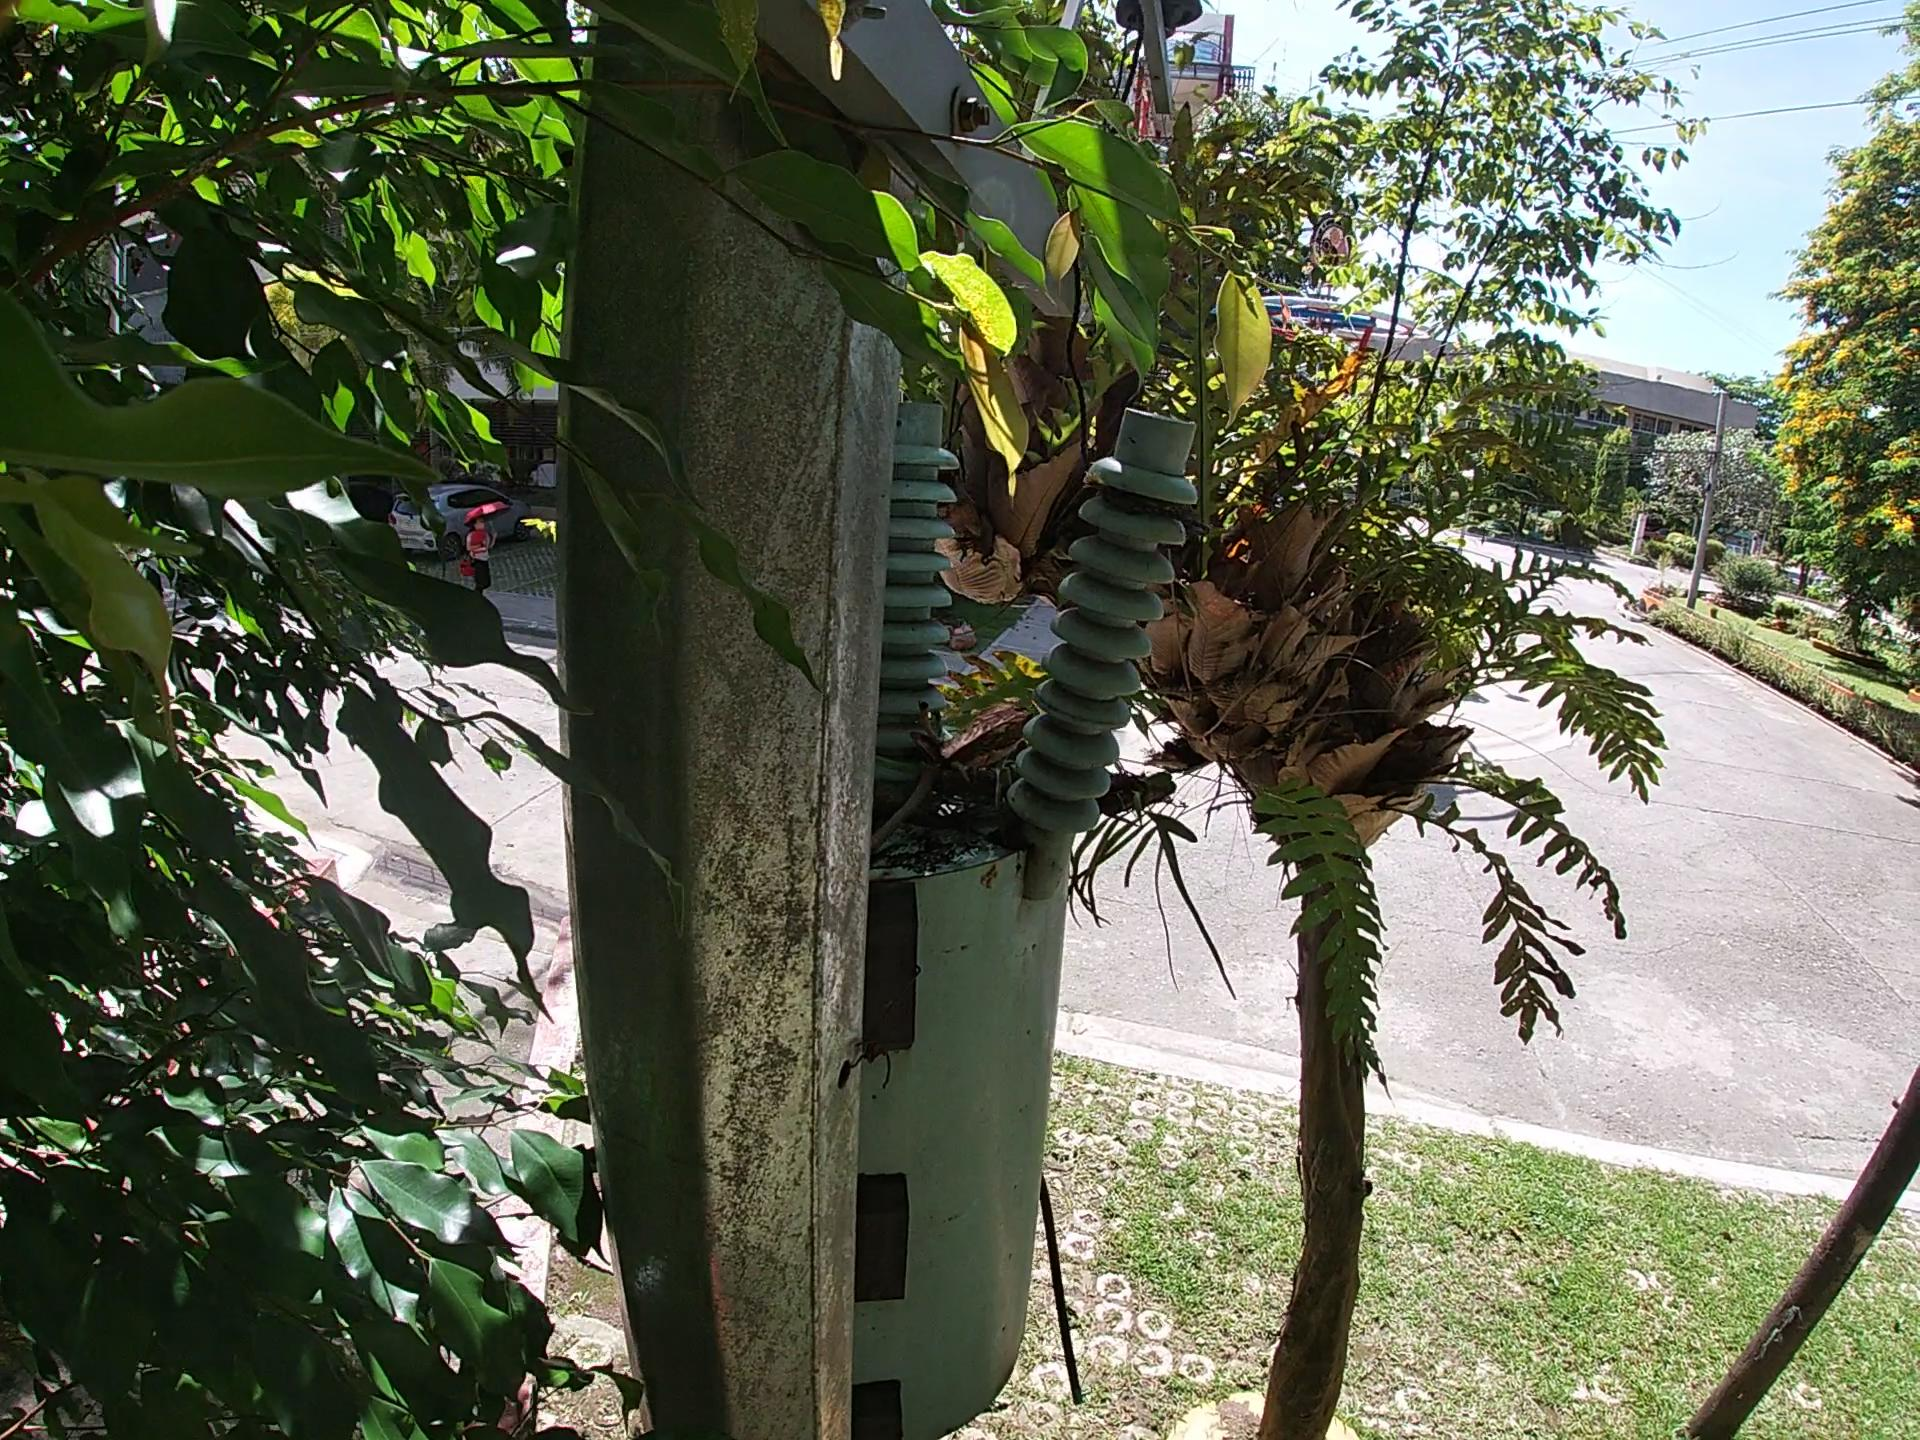branch with leaves: (857, 625, 1253, 900)
mahogany fruit: (877, 635, 1008, 793)
tree branch: (751, 681, 1039, 906)
